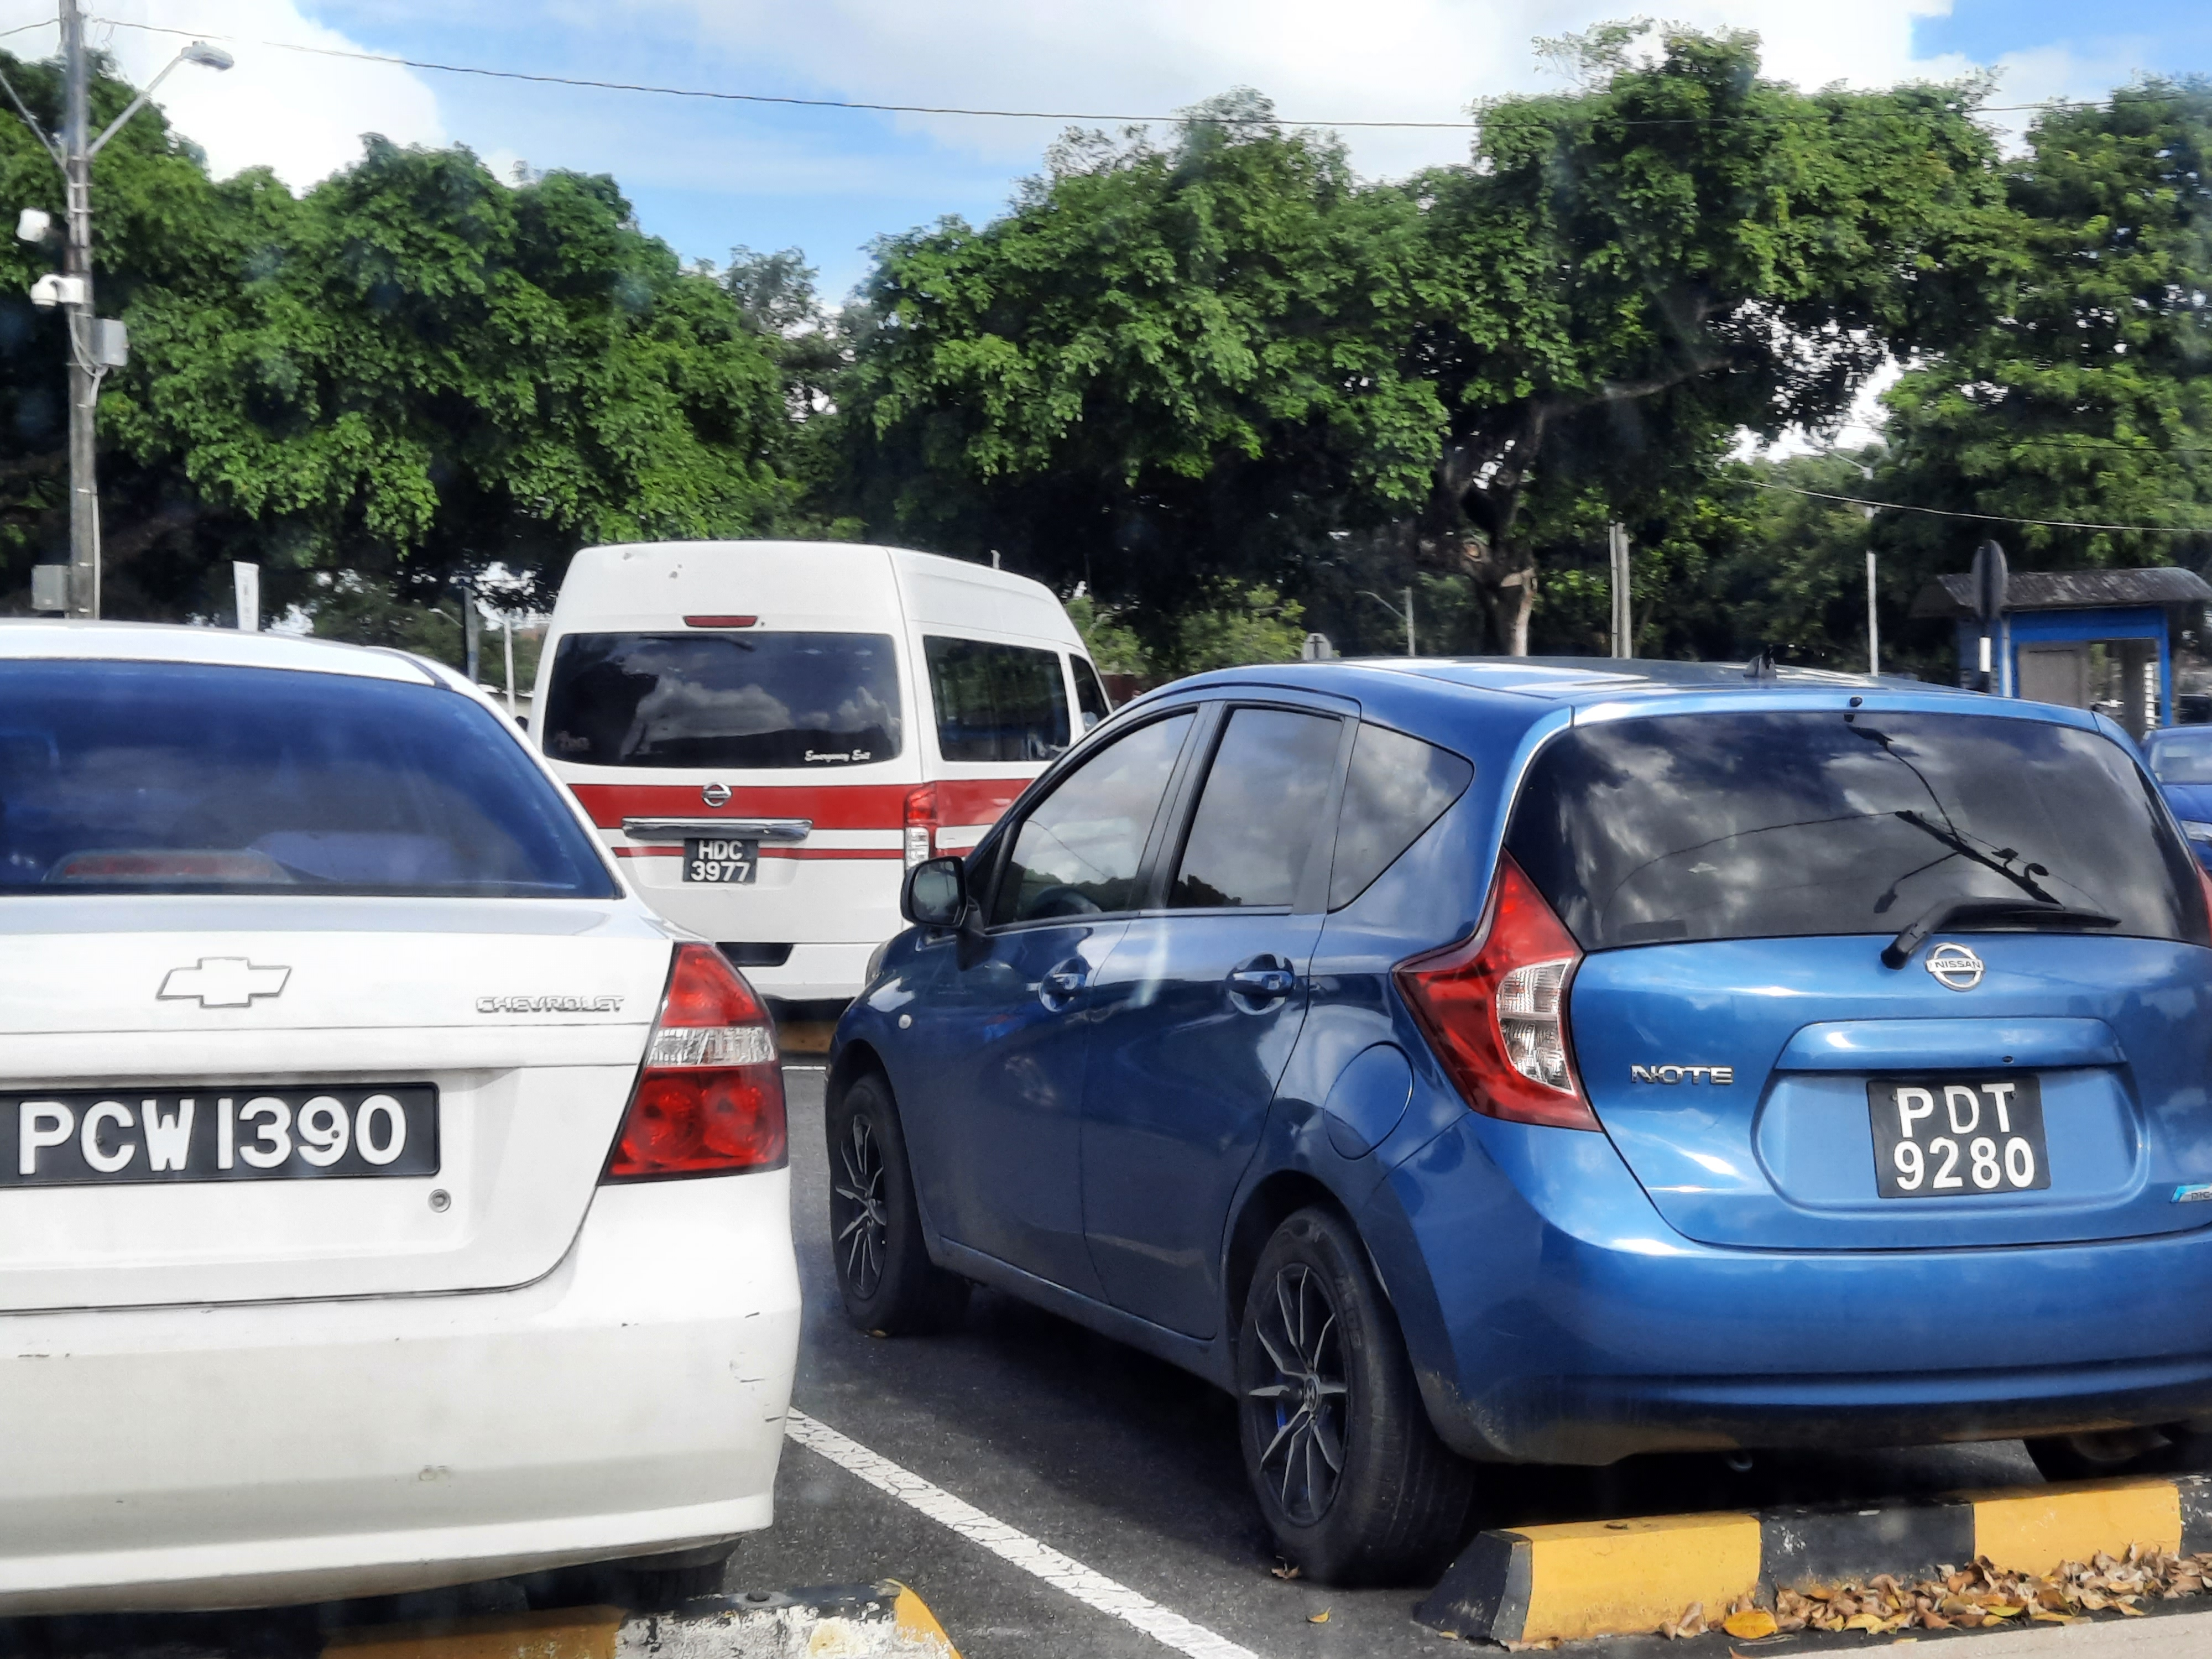License-Plate: (0, 1092, 436, 1185), (1870, 1082, 2039, 1199), (685, 837, 757, 881)
